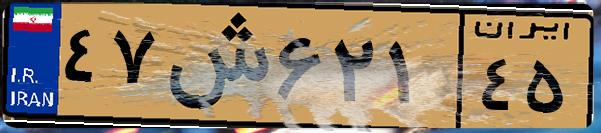1: (385, 28, 445, 110)
2: (330, 28, 385, 110)
4: (57, 26, 110, 100), (475, 38, 525, 113)
5: (525, 38, 570, 115)
6: (270, 28, 330, 110)
7: (110, 28, 158, 98)
ش: (158, 12, 270, 120)
